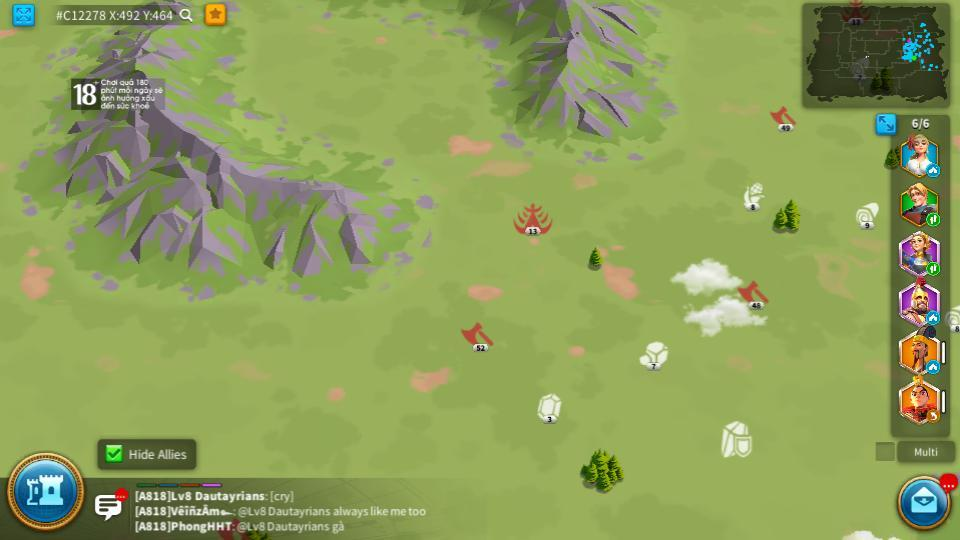gem-z-out: (535, 394, 564, 422), (845, 529, 877, 539)
march_idle: (927, 312, 939, 324), (927, 362, 940, 373), (927, 164, 940, 175)
march_marching: (925, 263, 938, 275), (927, 215, 940, 226)
march_returning: (926, 411, 940, 422)
